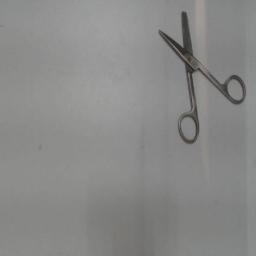Dressing Scissors: (154, 4, 250, 150)
